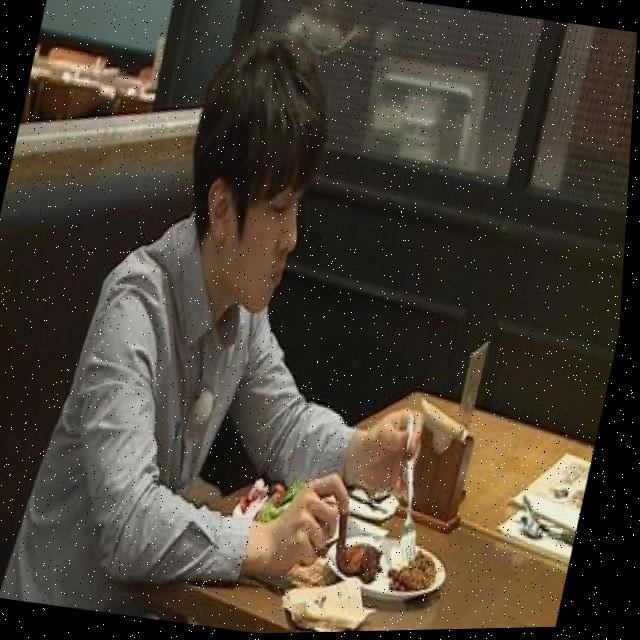eating-person: (0, 0, 547, 640)
